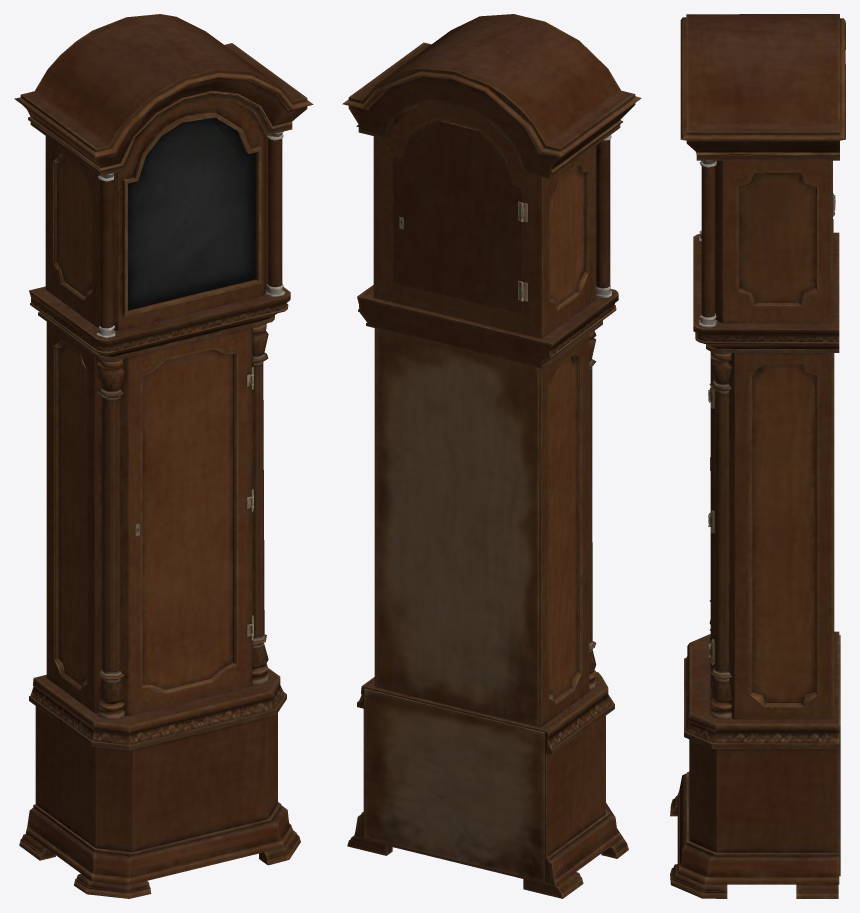
3 views of the same model, side by side, from view 1: azimuth 30°, elevation 25°; view 2: azimuth 150°, elevation 25°; view 3: azimuth 270°, elevation 25° (orthographic). The views are drawn at different scales.
Visible parts, largest first — view 1: vintage_grandfather_clock_01_Body; view 2: vintage_grandfather_clock_01_Body; view 3: vintage_grandfather_clock_01_Body.
Part boxes in pixels (x1,y1,x2,y2): vintage_grandfather_clock_01_Body: [14, 14, 313, 898]; vintage_grandfather_clock_01_Body: [342, 14, 641, 898]; vintage_grandfather_clock_01_Body: [670, 14, 845, 898].
Size of the model in its own units: 0.6256 by 2.19 by 0.4266.
2 materials, 2 textured.
